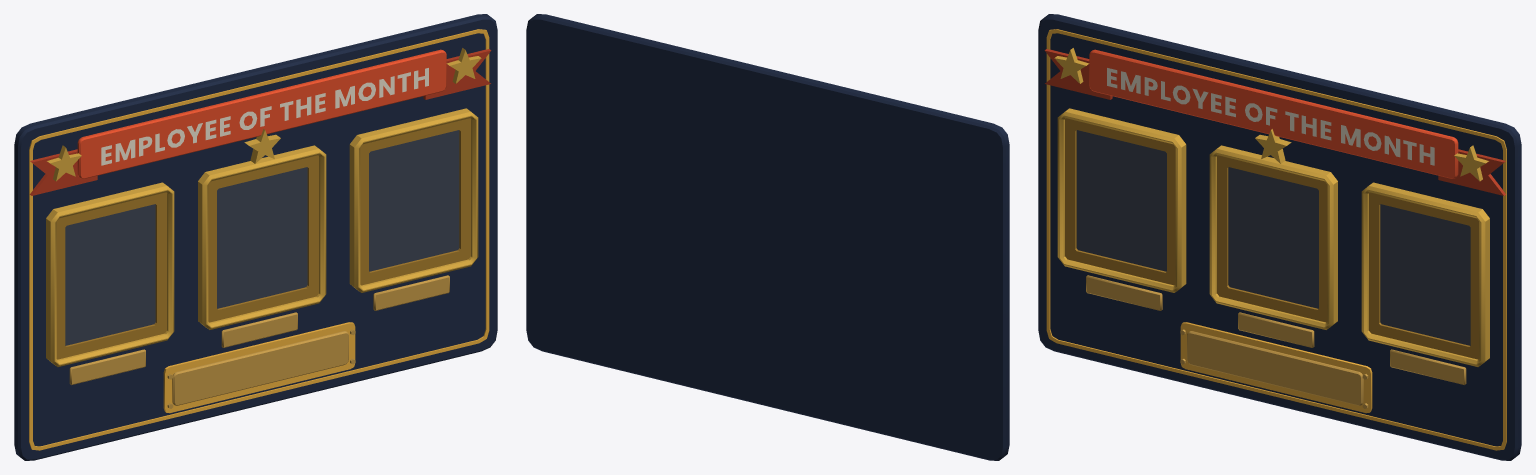
Rendered from Lobby_EOTMWall.fbx.
The picture shows the model from 3 angles, left to right: view 1: azimuth 30°, elevation 25°; view 2: azimuth 150°, elevation 25°; view 3: azimuth 330°, elevation 25°; orthographic projection.
Parts seen in each view (by area): view 1: Backing, Gilding, FrameLip, Banner, Photo2, Photo1, Photo3, Trim, Plaque, Brass, Letters, BannerTails; view 2: Backing; view 3: Backing, Gilding, FrameLip, Banner, Photo2, Photo1, Photo3, Trim, Plaque, Brass, Letters, BannerTails.
Boxes of the visible parts, x1,y1,x2,y2 form: Backing: (14, 14, 497, 460); Gilding: (46, 48, 481, 366); FrameLip: (56, 118, 470, 359); Banner: (77, 49, 446, 178); Photo2: (217, 167, 307, 308); Photo1: (65, 204, 155, 345); Photo3: (369, 130, 459, 271); Trim: (29, 29, 489, 450); Plaque: (172, 331, 348, 405); Brass: (69, 275, 449, 408); Letters: (101, 68, 428, 165); BannerTails: (30, 49, 491, 195); Backing: (526, 14, 1009, 460); Backing: (1038, 14, 1521, 460); Gilding: (1054, 48, 1489, 366); FrameLip: (1065, 118, 1479, 359); Banner: (1089, 49, 1458, 178); Photo2: (1228, 167, 1318, 308); Photo1: (1076, 130, 1166, 271); Photo3: (1380, 204, 1470, 345); Trim: (1046, 29, 1506, 450); Plaque: (1187, 331, 1363, 405); Brass: (1086, 275, 1466, 408); Letters: (1107, 68, 1434, 165); BannerTails: (1044, 49, 1505, 195).
Bounding box in the file's own units: 1200 × 800 × 55.
